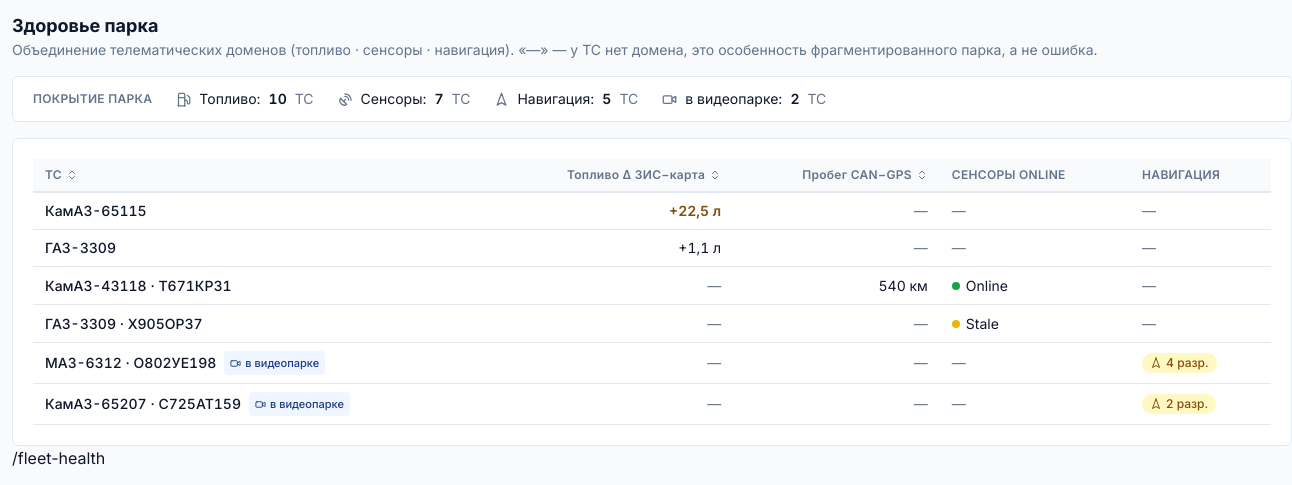
Scenario: FleetHealth · хаб «Здоровье парка» › клик по строке с топливом → /fleet-health/fuel/:plate
Expected: the text "Покрытие парка" is shown, x1=33 y1=91 x2=152 y2=107
Click the text "КамАЗ-65115": coordinates (96, 211) x1=45 y1=201 x2=147 y2=221
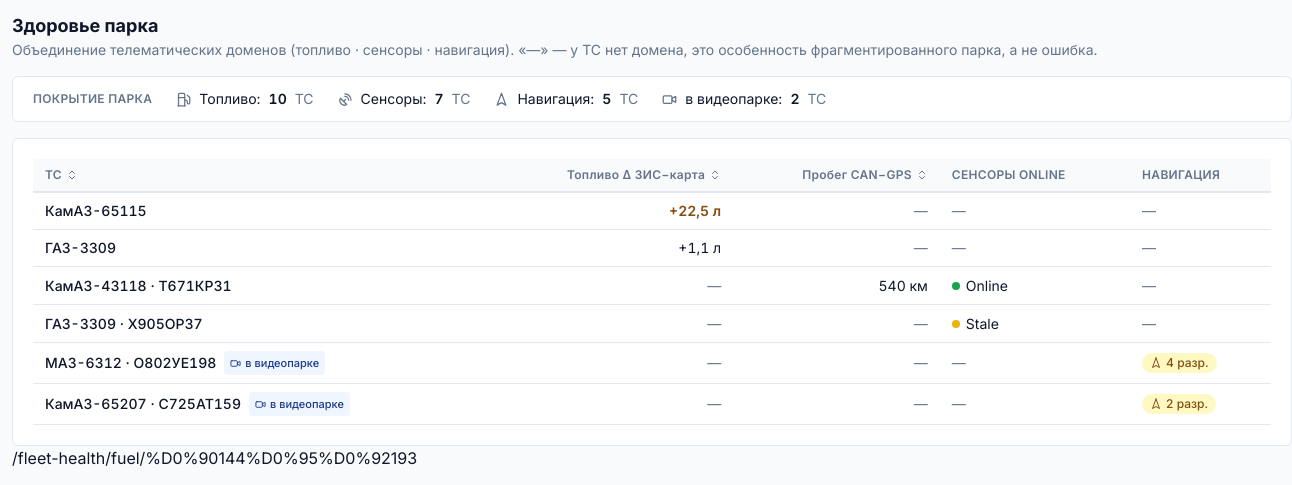
Result: the text with test id "loc" shows "/fleet-health/fuel/" at x1=12 y1=448 x2=417 y2=468
